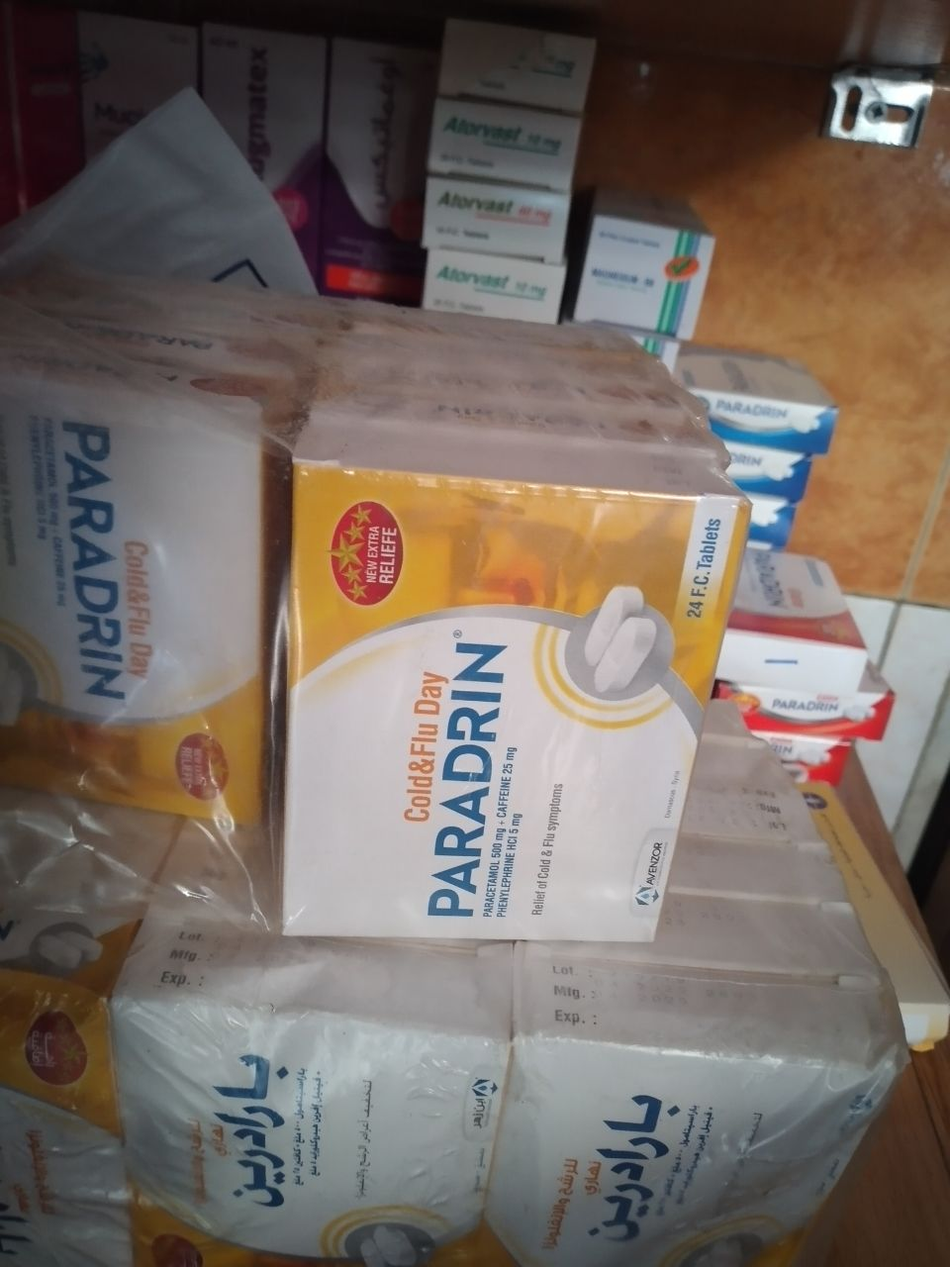Medicine: (277, 403, 755, 957), (0, 363, 290, 848), (511, 947, 891, 1267), (135, 963, 521, 1267), (320, 23, 412, 310), (709, 544, 884, 683), (429, 20, 617, 135), (416, 102, 581, 214), (396, 224, 581, 323), (587, 211, 726, 340), (670, 340, 841, 432), (412, 188, 590, 241)
